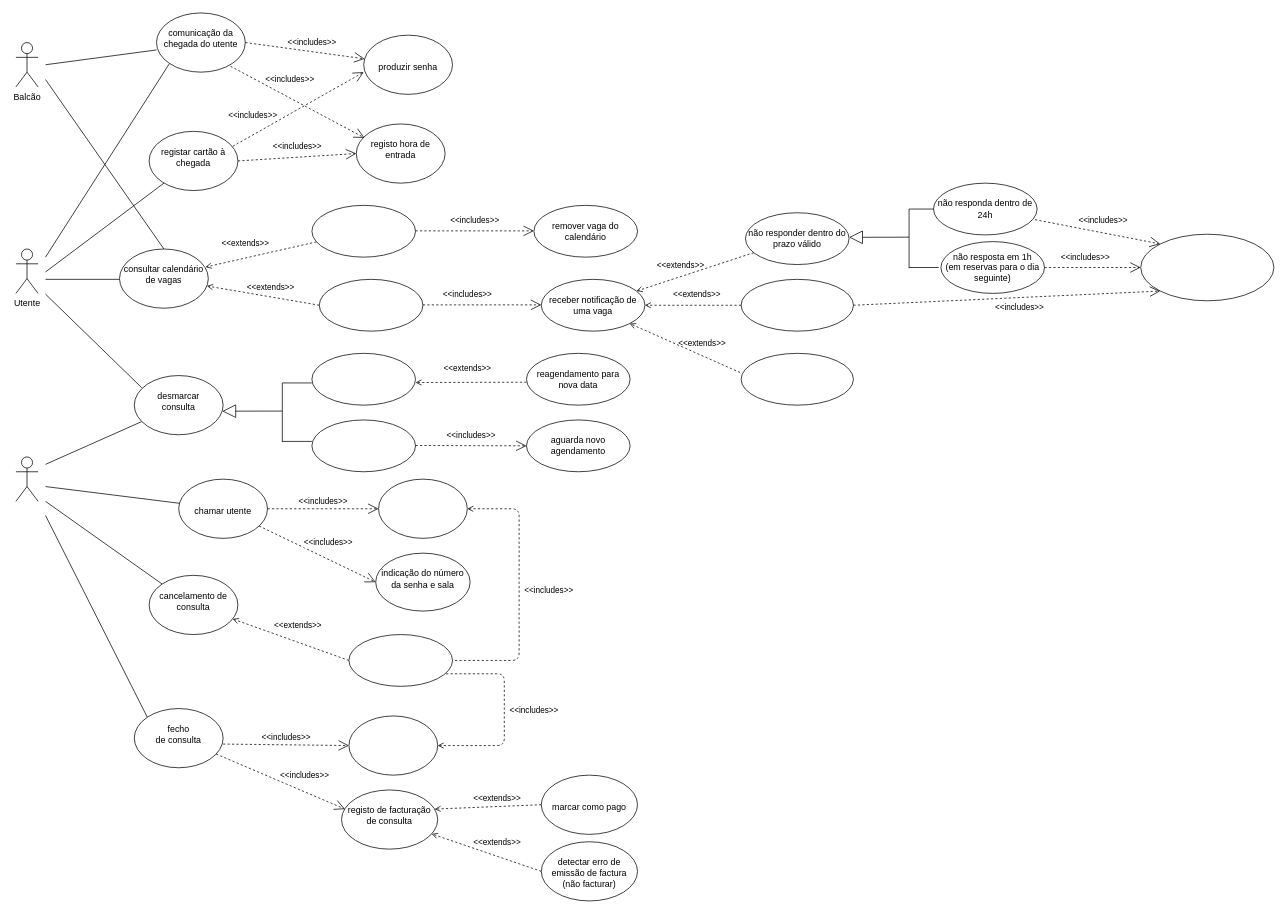
Some shapes in this 1287 by 914 pixel diagram are drawn without their labels. Each missing label, with the centre of its shape:
"aceitar a vaga" belongs at point (796, 379).
"desistência do utente" belongs at point (363, 379).
"falta de comparência do utente" belongs at point (400, 660).
"ficar em lista de espera" belongs at point (371, 305).
"impossibilidade do médico" belongs at point (363, 445).
"marcar consulta" belongs at point (363, 231).
"Médico" belongs at point (26, 478).
"reatribuição da vaga" belongs at point (1207, 267).
"recusar a vaga" belongs at point (796, 305).
"registo de fim de consulta" belongs at point (393, 745).
"registo início da consulta" belongs at point (422, 508).
